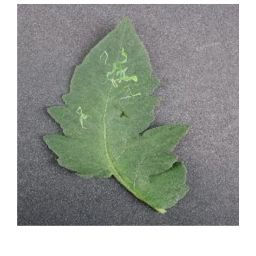liriomyza: (100, 46, 142, 101), (74, 106, 89, 129)
